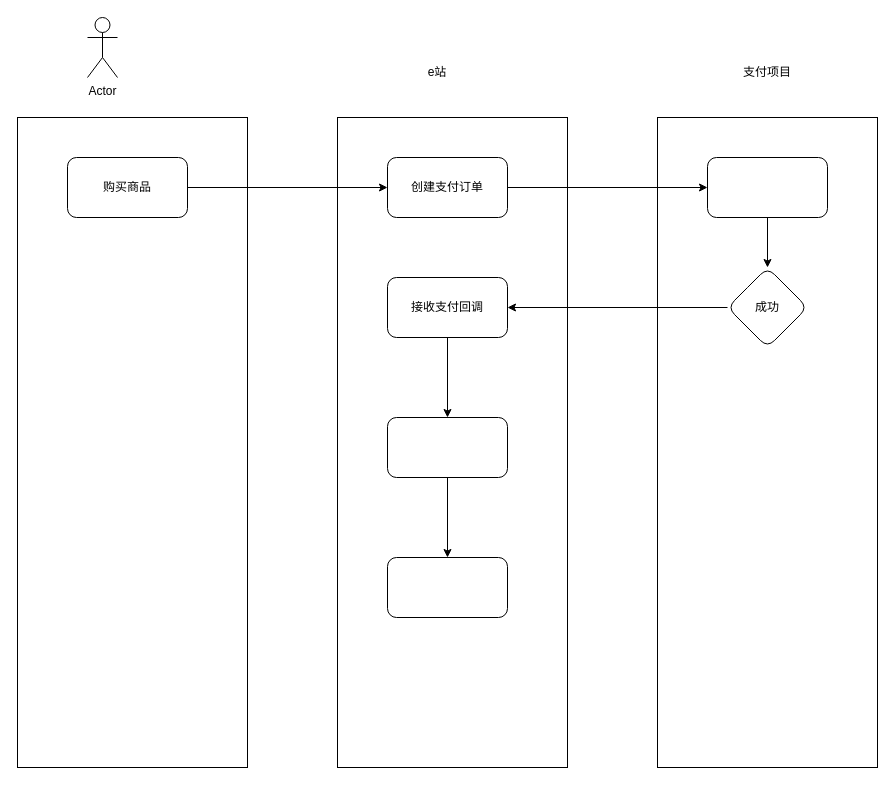
This 895x785 diagram has some shape labels left out. The shapes that lost their labels are listed below. From the top down, each one's box as (x1, y1, x2, y2) in pixels, then its label:
(706, 156, 828, 218): 查询支付状态
(386, 416, 508, 478): 按商品类型处理
